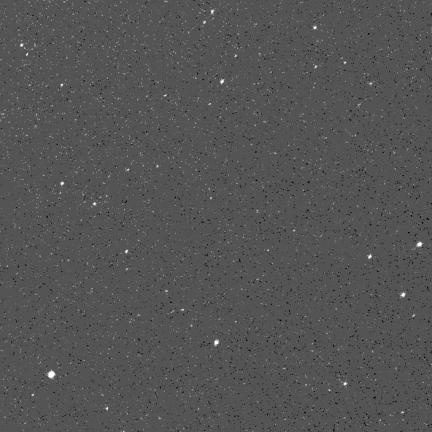blob: (48, 371, 55, 379), (214, 340, 219, 346), (368, 254, 373, 260), (416, 242, 422, 247), (220, 79, 225, 85), (400, 292, 405, 297), (60, 181, 64, 186), (343, 382, 347, 386), (203, 21, 206, 25), (211, 10, 214, 14), (313, 26, 317, 29), (20, 44, 24, 47), (61, 84, 64, 87), (125, 250, 128, 253), (93, 202, 96, 205)
